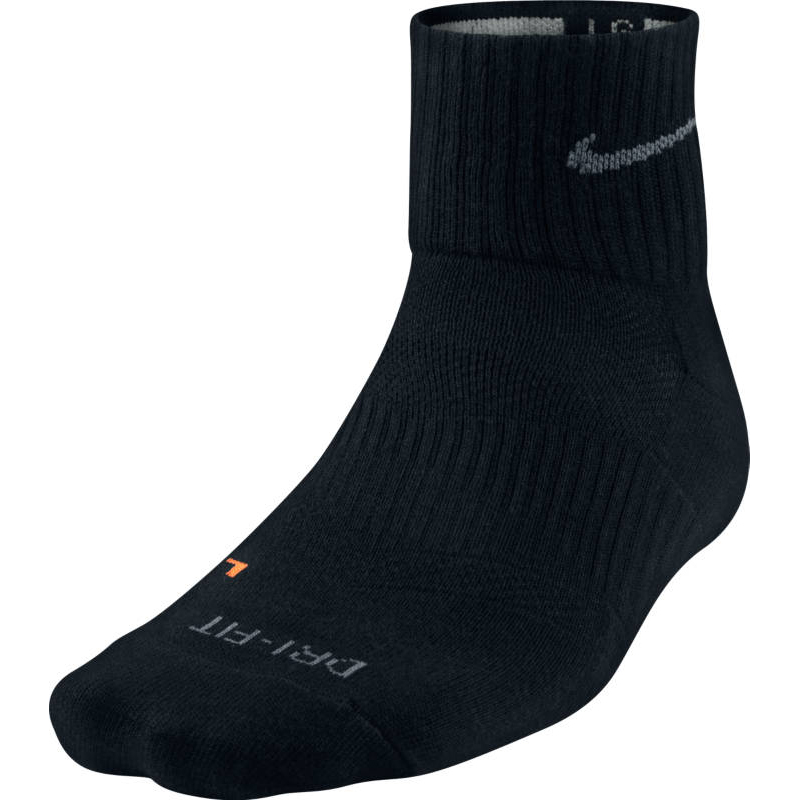Nike: (562, 113, 703, 175)
